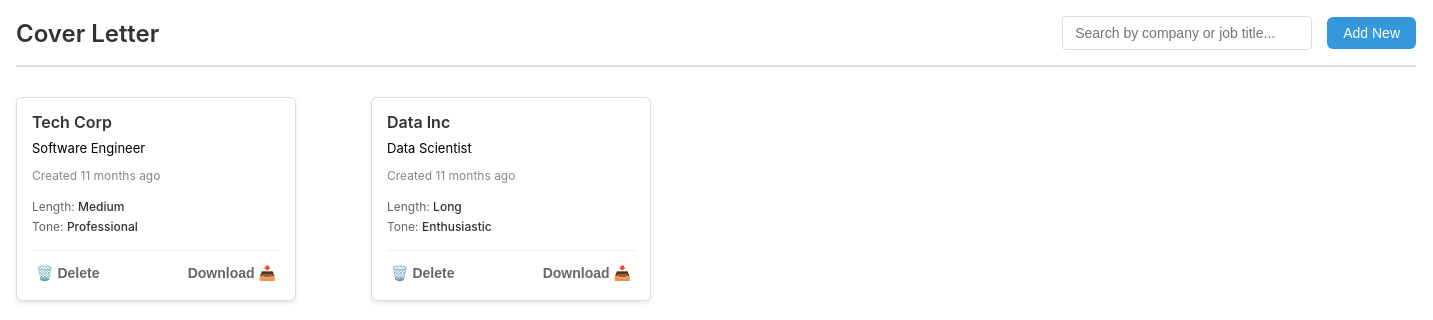
Test: CoverLetter Component › Search Functionality › shows no matching message when search has no results
expect the text "Tech Corp" is shown: met, box x1=32 y1=112 x2=112 y2=132
Type "Nonexistent" into the field with placeholder "Search by company or job title..." at x=1187, y=33, box x1=1062 y1=16 x2=1312 y2=50
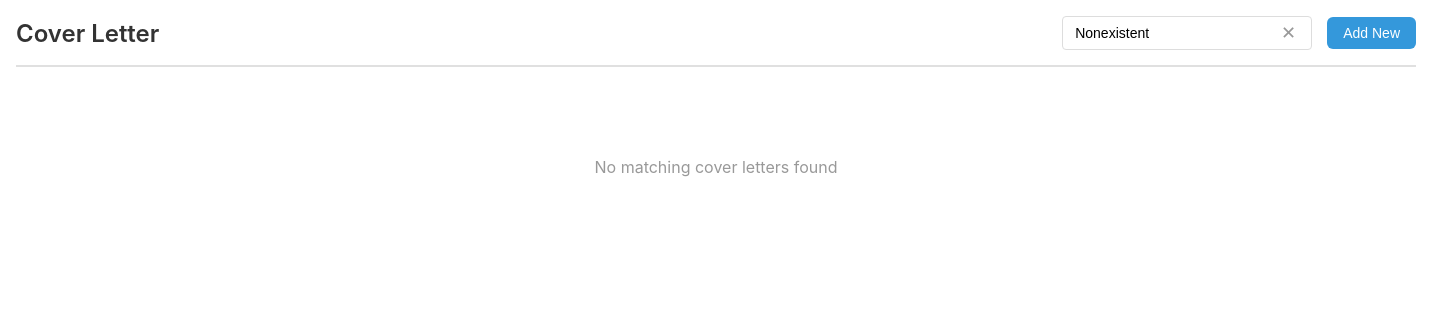
expect the text "No matching cover letters found" is shown: met, box x1=594 y1=157 x2=838 y2=177
